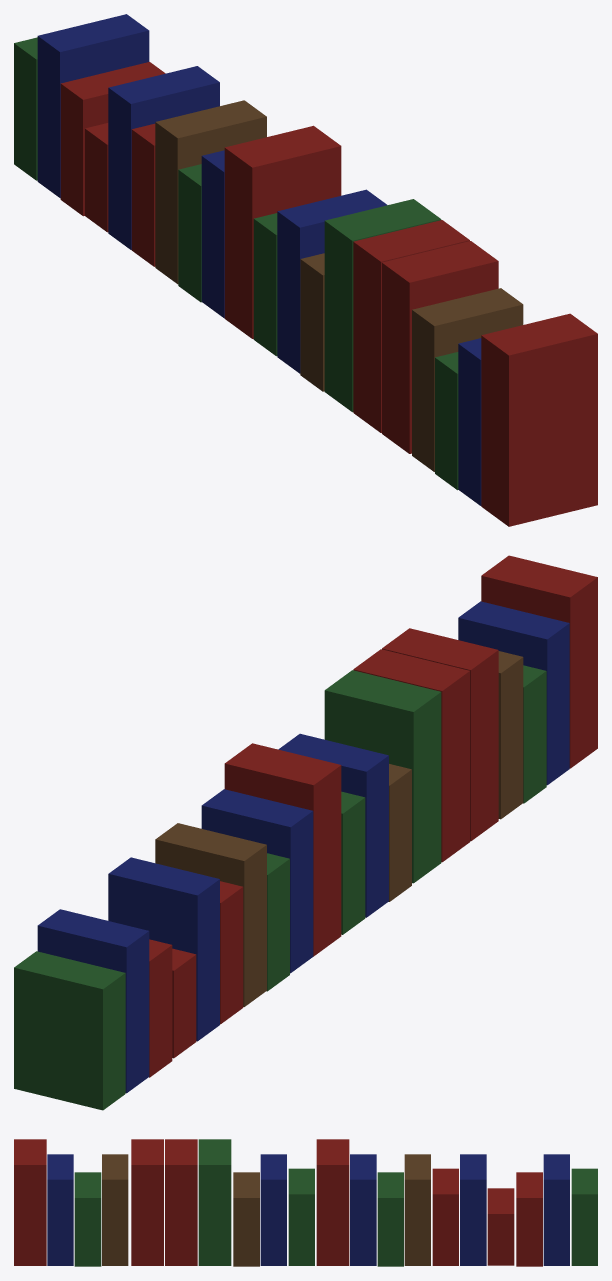
File: books1.fbx
The picture shows the model from 3 angles, top to bottom: view 1: azimuth 30°, elevation 25°; view 2: azimuth 150°, elevation 25°; view 3: azimuth 270°, elevation 25°; orthographic projection. The views are drawn at different scales.
Visible parts, largest first — view 1: Cube.007; view 2: Cube.007; view 3: Cube.007.
Boxes of the visible parts, x1,y1,x2,y2 form: Cube.007: (14,14,597,526); Cube.007: (14,555,597,1110); Cube.007: (14,1139,597,1266).
Size of the model in its own units: 200 by 370 by 1925.
